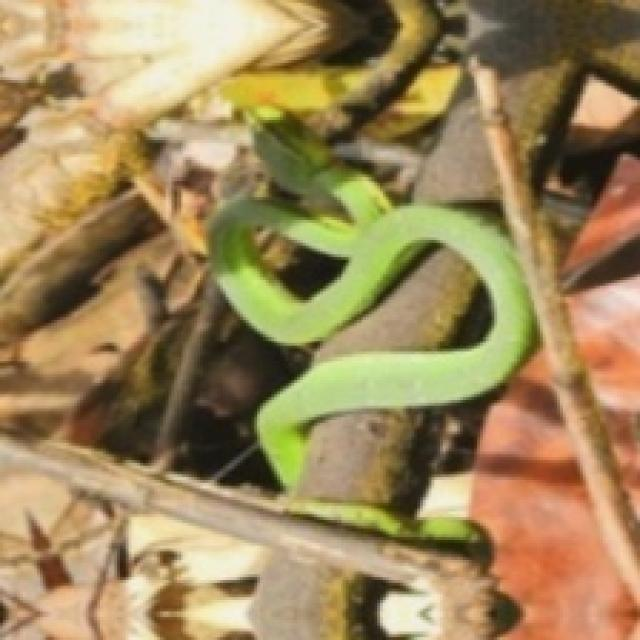north ph temple pitviper: (210, 103, 532, 484)
